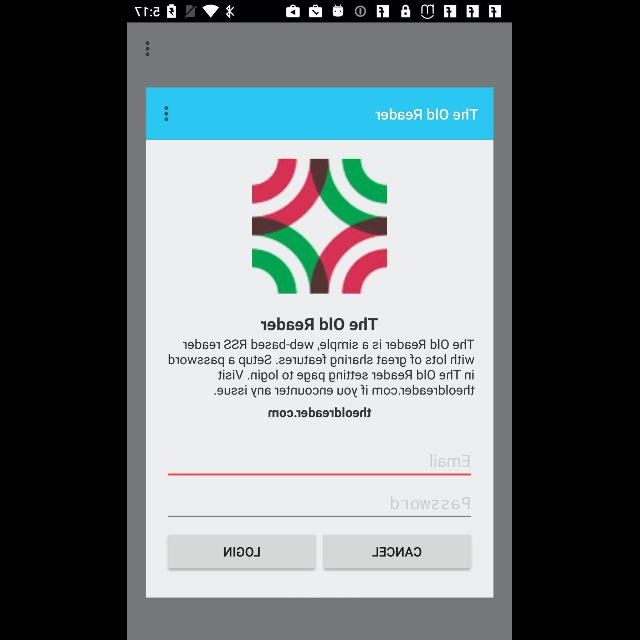icon: (165, 106, 169, 122), (146, 42, 150, 56)
image: (254, 159, 386, 293)
input: (168, 454, 472, 476), (168, 497, 472, 518)
panel: (146, 88, 494, 598)
text: (169, 339, 475, 398), (262, 318, 378, 330), (376, 108, 478, 120), (390, 496, 470, 509), (432, 454, 471, 468)
textbutton: (169, 534, 317, 570), (324, 534, 472, 570), (268, 402, 372, 422)
uppertaskbar: (128, 1, 512, 23)
